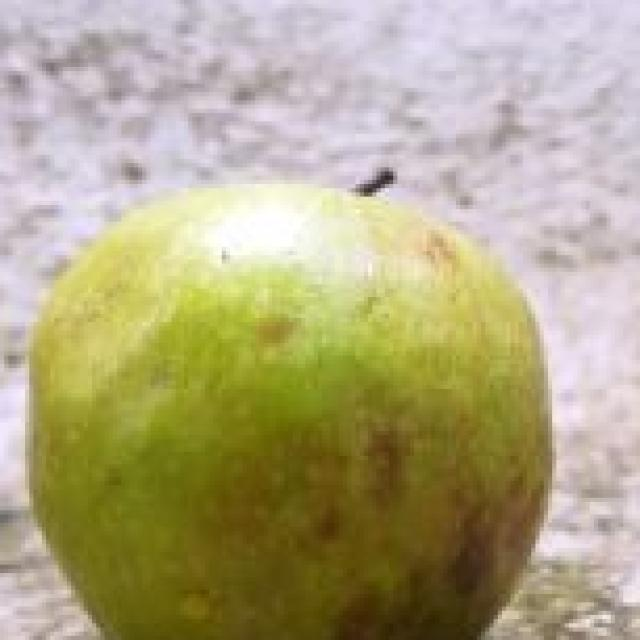Good_Apple 10-21 days: (31, 186, 550, 640)
